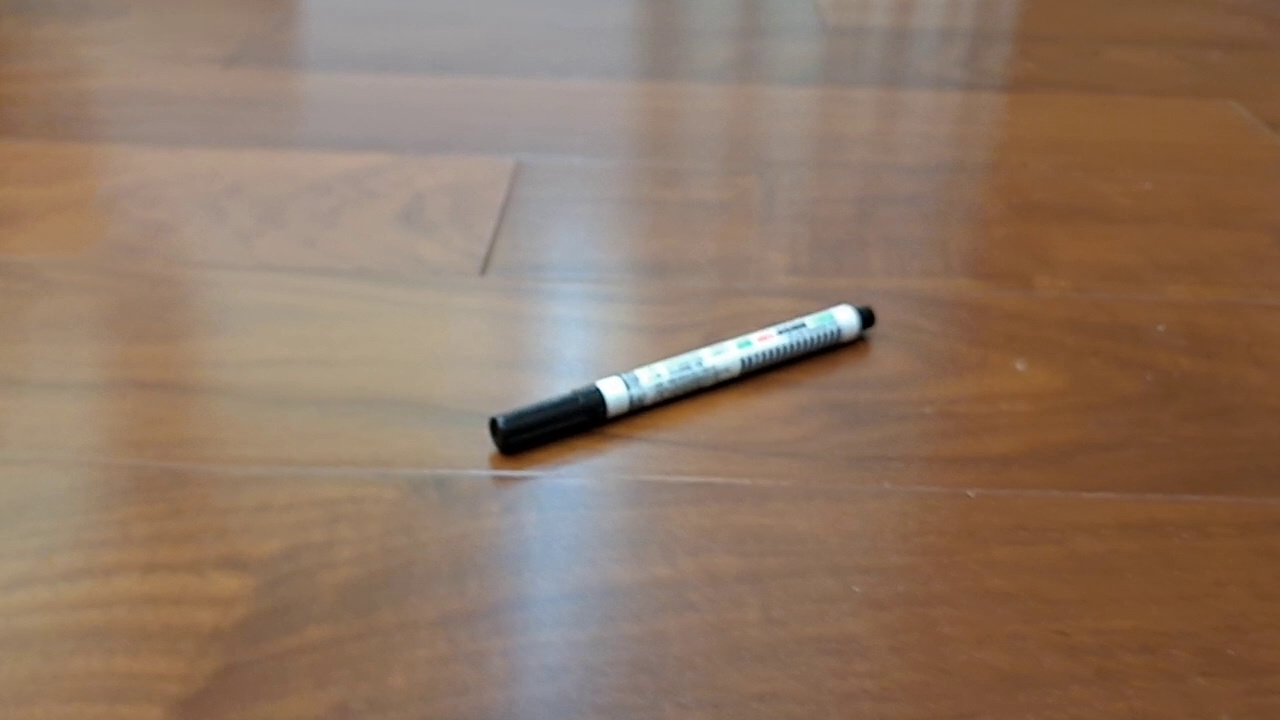pen: (489, 302, 875, 458)
